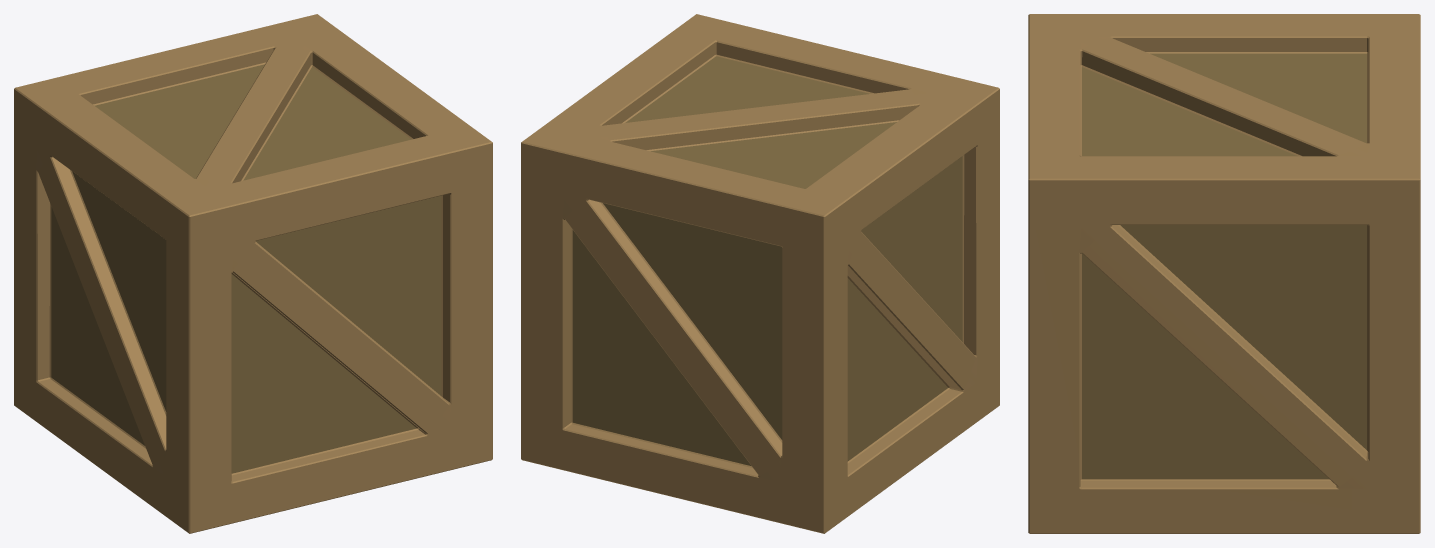
The model's file is crate.fbx.
3 views of the same model, side by side, from view 1: azimuth 30°, elevation 25°; view 2: azimuth 150°, elevation 25°; view 3: azimuth 270°, elevation 25° (orthographic). The views are drawn at different scales.
Visible parts, largest first — view 1: pCube7; view 2: pCube7; view 3: pCube7.
Boxes of the visible parts, x1,y1,x2,y2 form: pCube7: (14,14,492,533); pCube7: (521,14,999,533); pCube7: (1028,14,1420,533).
Size of the model in its own units: 0.7874 by 0.7874 by 0.7874.
